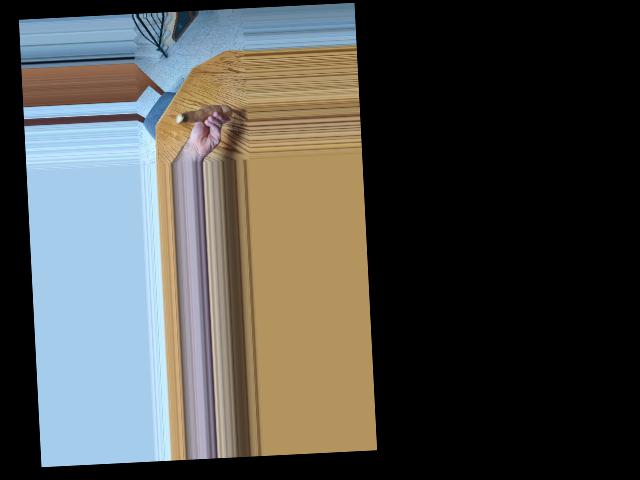sweet_potato: (177, 102, 233, 129)
